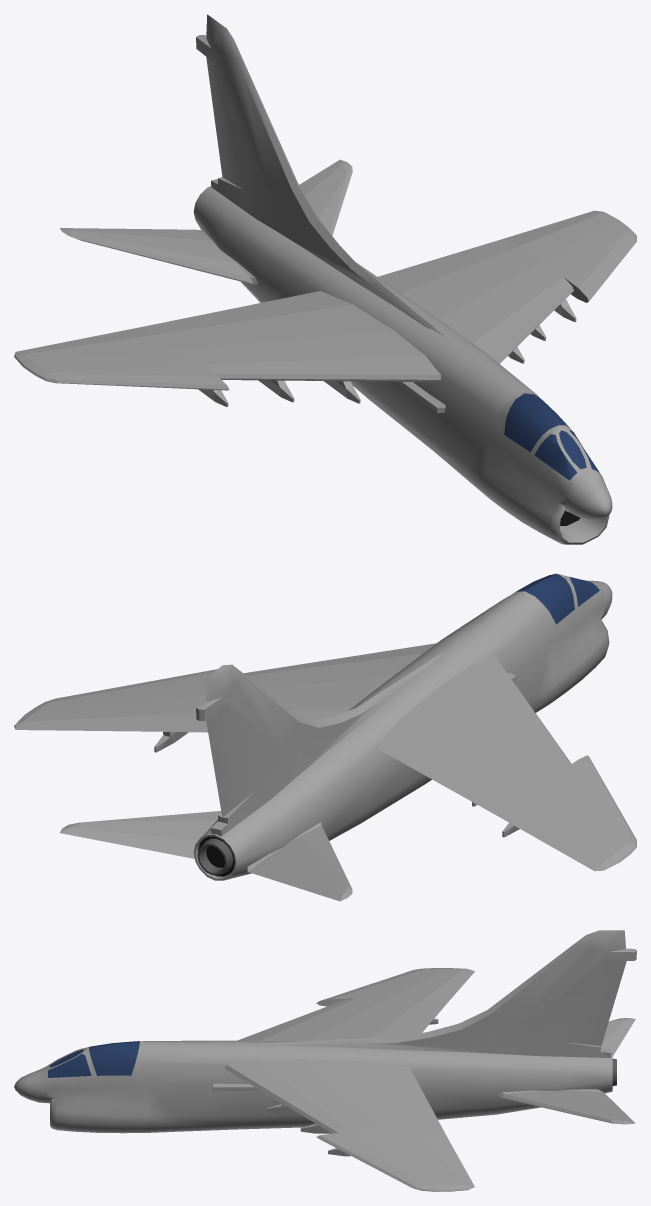
File: A7E_CORSAIR_II.glb
3 renders of one model, top to bottom at view 1: azimuth 30°, elevation 25°; view 2: azimuth 150°, elevation 25°; view 3: azimuth 270°, elevation 25°, orthographic. The views are drawn at different scales.
Visible parts, largest first — view 1: a7e_corsair_II; view 2: a7e_corsair_II; view 3: a7e_corsair_II.
Part boxes in pixels (box(x1,y1,x2,y2)): a7e_corsair_II: box(14, 14, 636, 544); a7e_corsair_II: box(14, 573, 636, 901); a7e_corsair_II: box(14, 930, 636, 1191).
Size of the model in its own units: 10.31 by 4.29 by 12.2.
